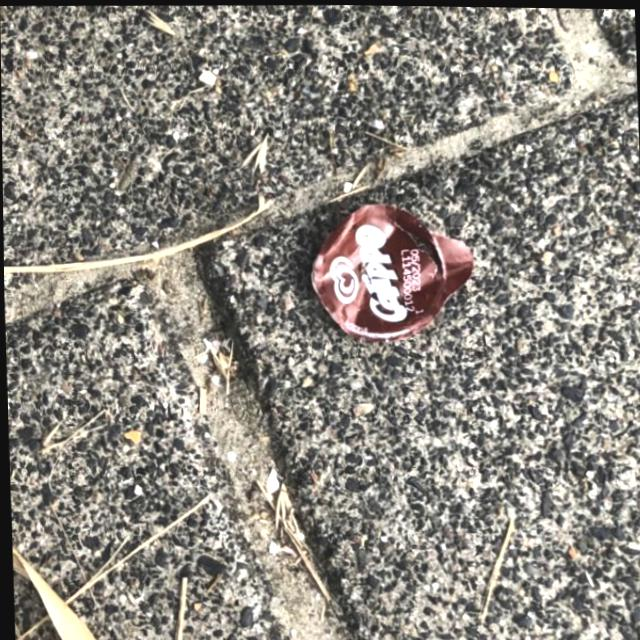Paper: (306, 197, 477, 345)
